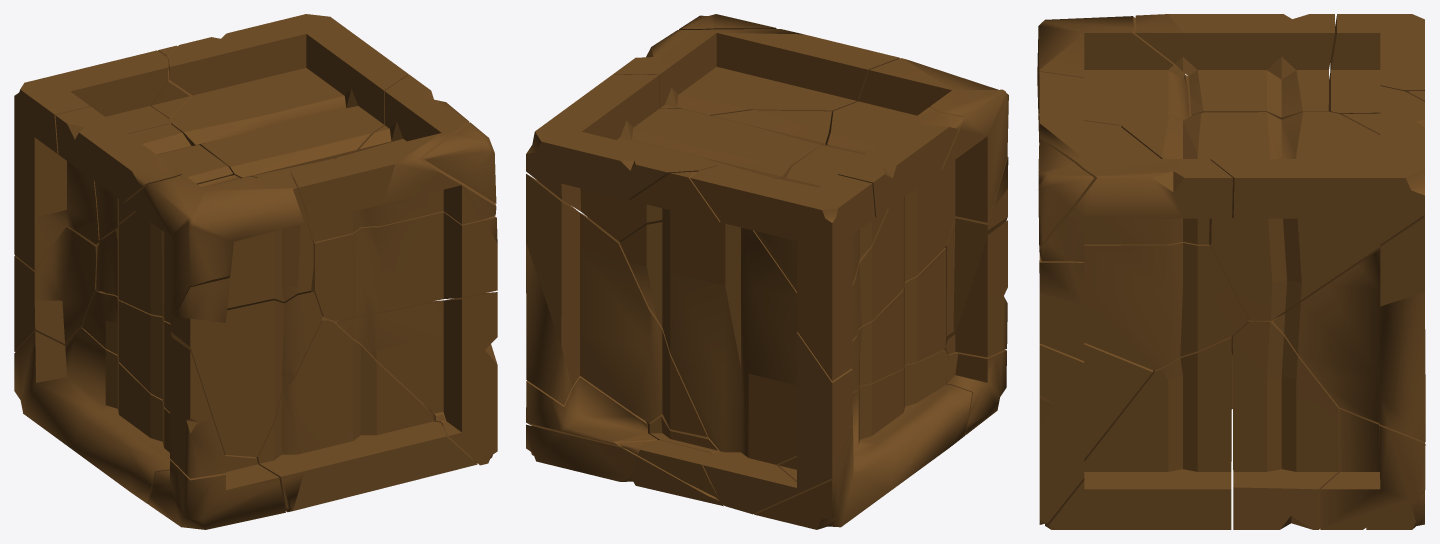
Rendered from crate_pieces.glb.
3 views of the same model, side by side, from view 1: azimuth 30°, elevation 25°; view 2: azimuth 150°, elevation 25°; view 3: azimuth 270°, elevation 25° (orthographic). The views are drawn at different scales.
Visible parts, largest first — view 1: Object_3_cell.014, Object_3_cell.006, Object_3_cell.009, Object_3_cell.003, Object_3_cell.017, Object_3_cell.001, Object_3_cell, Object_3_cell.013, Object_3_cell.011, Object_3_cell.012, Object_3_cell.016, Object_3_cell.008 (+3 smaller); view 2: Object_3_cell.016, Object_3_cell.014, Object_3_cell.020, Object_3_cell.006, Object_3_cell.017, Object_3_cell.003, Object_3_cell.001, Object_3_cell.012, Object_3_cell.005, Object_3_cell.004, Object_3_cell.019, Object_3_cell.007 (+5 smaller); view 3: Object_3_cell.014, Object_3_cell.018, Object_3_cell.013, Object_3_cell.020, Object_3_cell.003, Object_3_cell.010, Object_3_cell.012, Object_3_cell.006, Object_3_cell.011, Object_3_cell.019, Object_3_cell.017, Object_3_cell.002 (+2 smaller).
Boxes of the visible parts, left/top/right/bottom form: Object_3_cell.014: left=168, top=14, right=408, bottom=177; Object_3_cell.006: left=96, top=170, right=313, bottom=323; Object_3_cell.009: left=255, top=316, right=477, bottom=512; Object_3_cell.003: left=290, top=74, right=496, bottom=241; Object_3_cell.017: left=14, top=50, right=169, bottom=270; Object_3_cell.001: left=14, top=328, right=170, bottom=503; Object_3_cell: left=170, top=278, right=322, bottom=457; Object_3_cell.013: left=310, top=211, right=497, bottom=321; Object_3_cell.011: left=336, top=292, right=497, bottom=465; Object_3_cell.012: left=55, top=106, right=232, bottom=239; Object_3_cell.016: left=14, top=45, right=192, bottom=351; Object_3_cell.008: left=148, top=455, right=285, bottom=529; Object_3_cell.016: left=620, top=171, right=852, bottom=514; Object_3_cell.014: left=526, top=74, right=831, bottom=242; Object_3_cell.020: left=526, top=174, right=707, bottom=436; Object_3_cell.006: left=825, top=58, right=1008, bottom=339; Object_3_cell.017: left=690, top=165, right=875, bottom=381; Object_3_cell.003: left=613, top=29, right=899, bottom=115; Object_3_cell.001: left=754, top=349, right=972, bottom=529; Object_3_cell.012: left=775, top=107, right=963, bottom=283; Object_3_cell.005: left=852, top=248, right=945, bottom=391; Object_3_cell.004: left=526, top=424, right=723, bottom=506; Object_3_cell.019: left=526, top=376, right=657, bottom=449; Object_3_cell.007: left=946, top=220, right=1007, bottom=357; Object_3_cell.014: left=1121, top=86, right=1424, bottom=320; Object_3_cell.018: left=1045, top=336, right=1231, bottom=529; Object_3_cell.013: left=1039, top=242, right=1248, bottom=370; Object_3_cell.020: left=1273, top=217, right=1425, bottom=442; Object_3_cell.003: left=1039, top=72, right=1232, bottom=261; Object_3_cell.010: left=1233, top=315, right=1389, bottom=529; Object_3_cell.012: left=1135, top=14, right=1334, bottom=119; Object_3_cell.006: left=1037, top=16, right=1191, bottom=126; Object_3_cell.011: left=1039, top=343, right=1152, bottom=524; Object_3_cell.019: left=1320, top=409, right=1425, bottom=529; Object_3_cell.017: left=1328, top=14, right=1424, bottom=114; Object_3_cell.002: left=1038, top=138, right=1093, bottom=246.
Bounding box in the file's own units: 0.4428 × 0.4428 × 0.4428.
